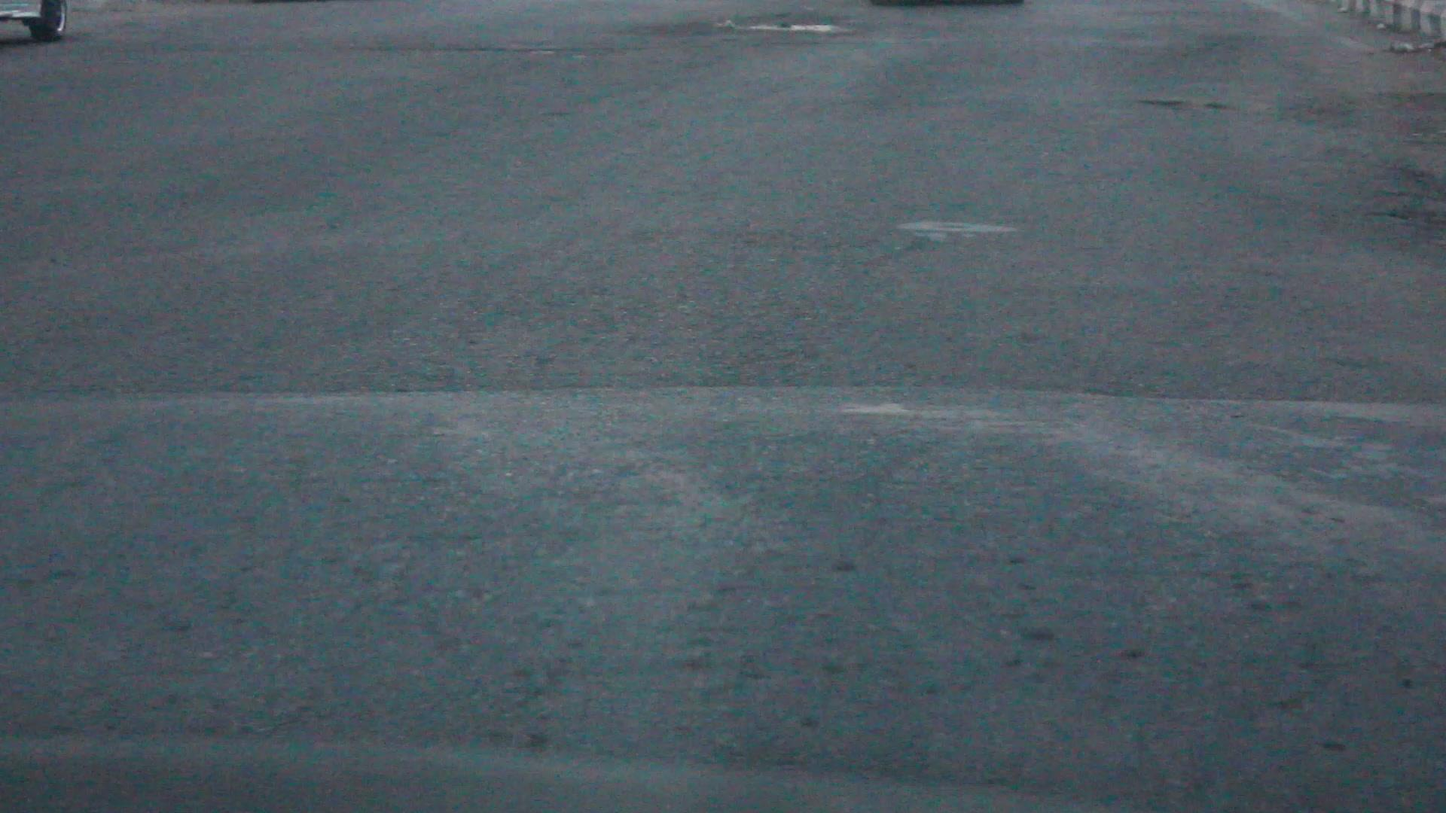Bump: (0, 393, 1446, 773)
